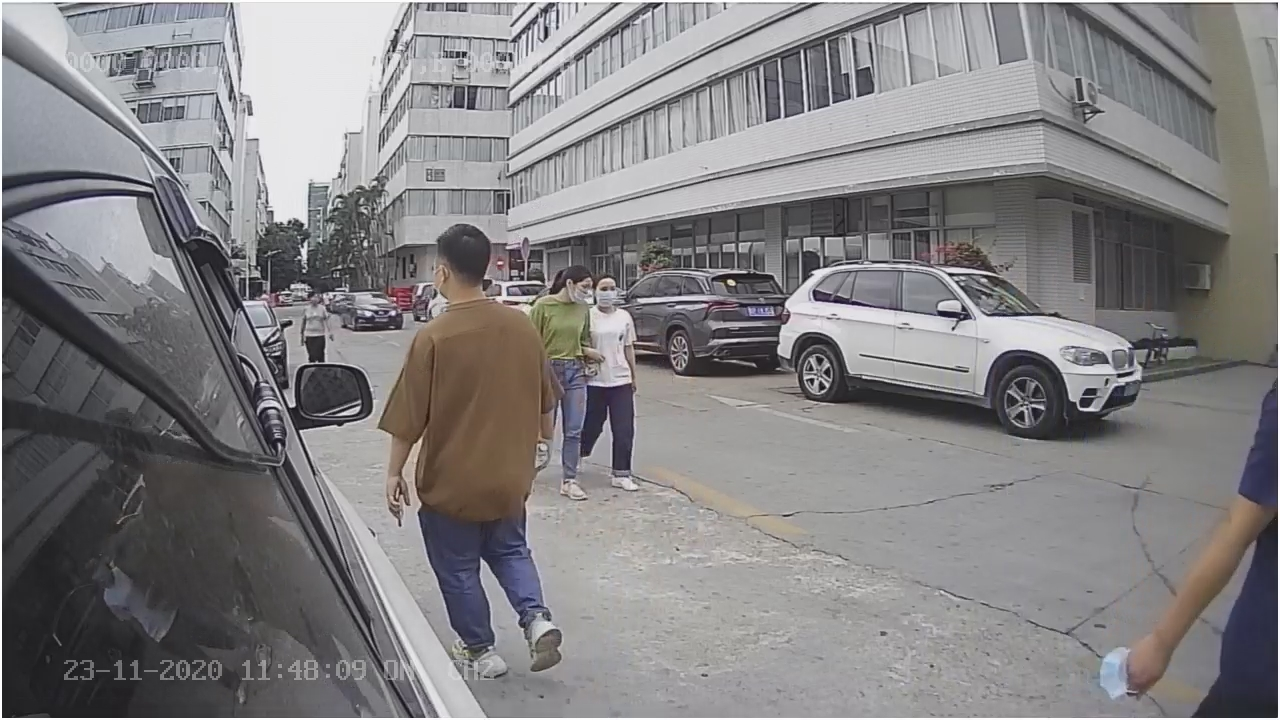person: (373, 212, 561, 530)
